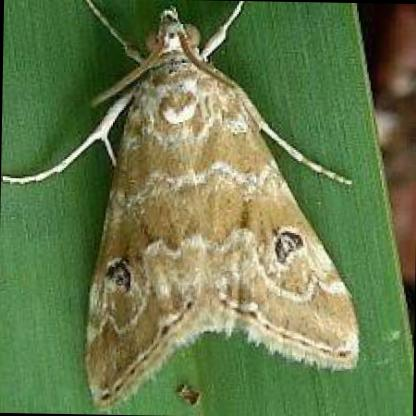Hellula undalis: (5, 1, 364, 409)
